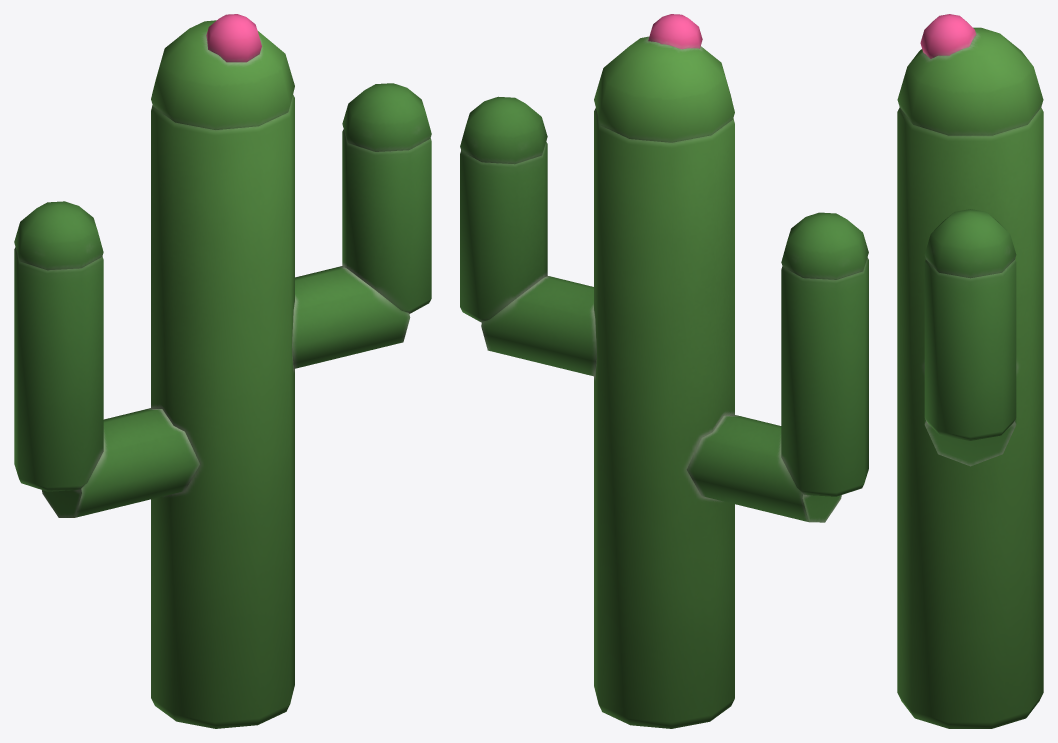
File: rr_cactus.glb
3 renders of one model, left to right at view 1: azimuth 30°, elevation 25°; view 2: azimuth 150°, elevation 25°; view 3: azimuth 270°, elevation 25°, orthographic. The views are drawn at different scales.
Visible parts, largest first — view 1: rr_cactus; view 2: rr_cactus; view 3: rr_cactus.
Boxes of the visible parts, box(x1,y1,x2,y2) form: rr_cactus: box(14, 14, 431, 728); rr_cactus: box(460, 14, 868, 728); rr_cactus: box(897, 14, 1043, 728).
Size of the model in its own units: 2.24 by 3.64 by 0.7.
Materials: 5 (5 with a texture image).
